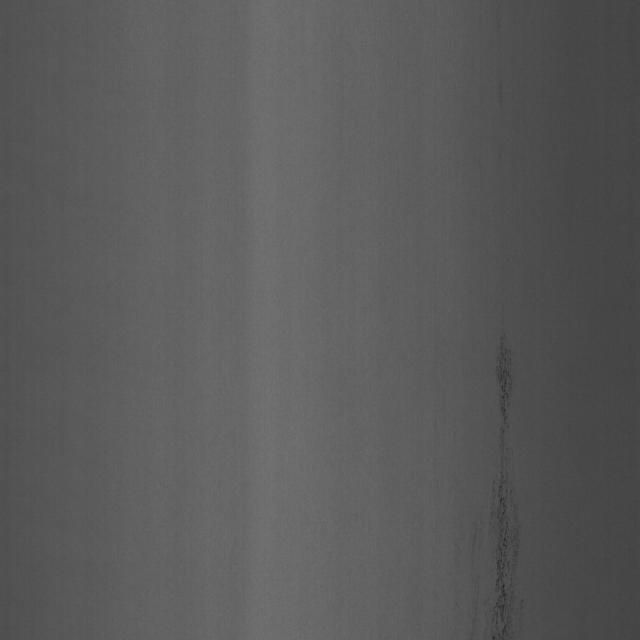oil_spot: (466, 321, 542, 631)
